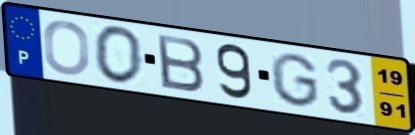3: (325, 58, 368, 117)
9: (214, 43, 254, 101)
B: (154, 32, 207, 95)
G: (268, 51, 322, 109)
O: (91, 23, 146, 87), (42, 19, 93, 77)
